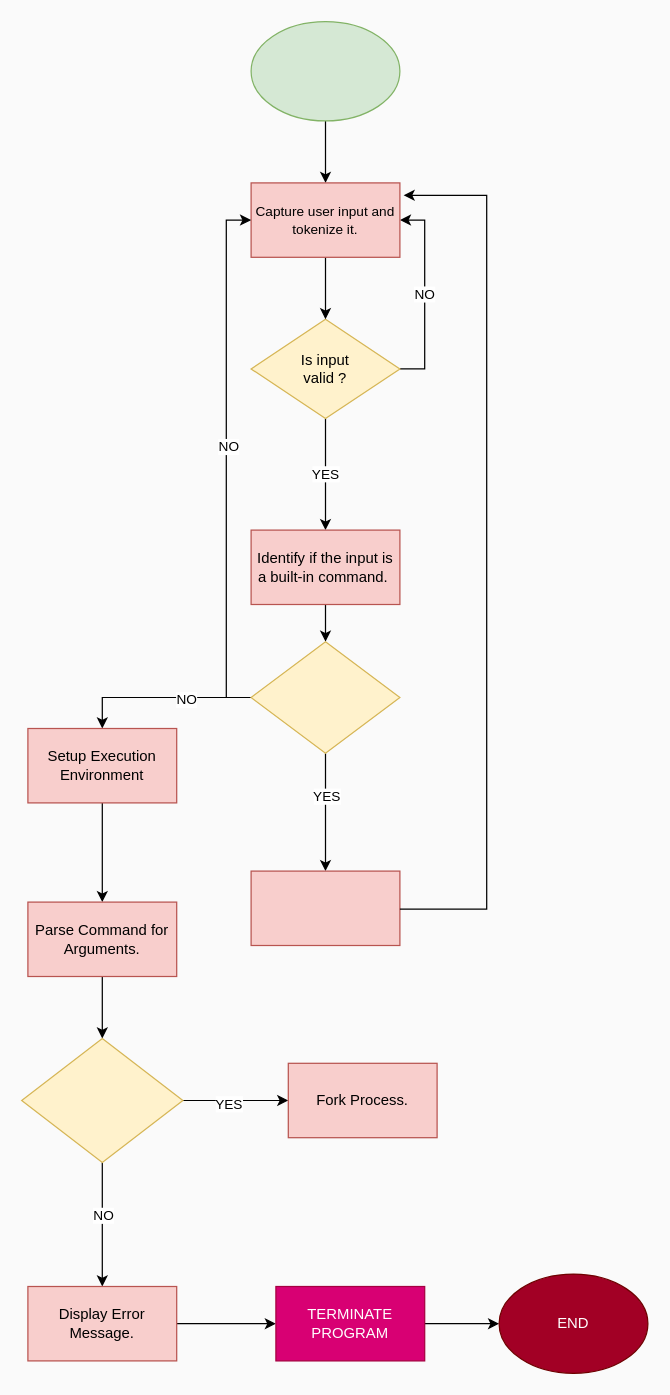
The diagram is 670 pixels wide and 1395 high, and some of its shapes have lost their labels. Each missing label, with the box of its shape:
Execute Built-in Command: (250, 870, 400, 946)
Is it a built-in command?: (250, 640, 400, 753)
Is the command found?: (20, 1037, 183, 1162)
START: (250, 20, 400, 121)
